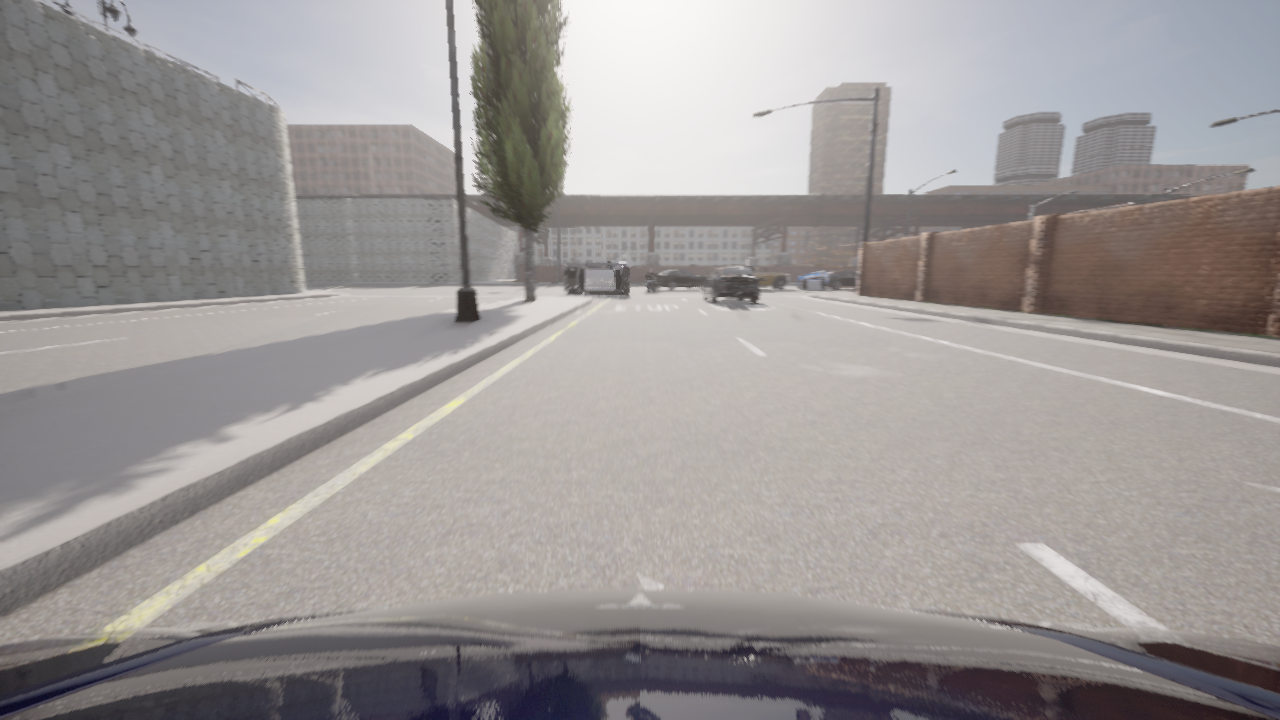cyclist: (0, 588, 1279, 719), (562, 257, 629, 295), (701, 266, 759, 303), (736, 264, 790, 289), (656, 269, 705, 290), (796, 270, 827, 290), (827, 269, 857, 289), (645, 274, 657, 291)
